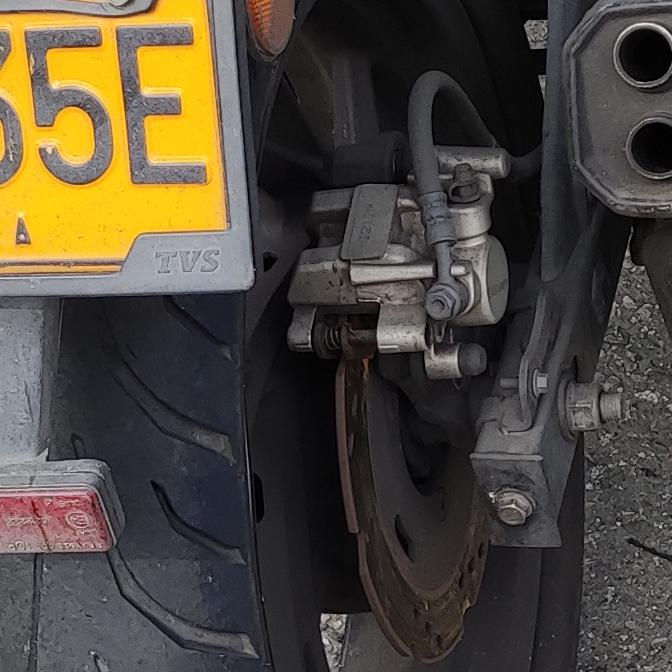plates: (0, 0, 255, 298)
